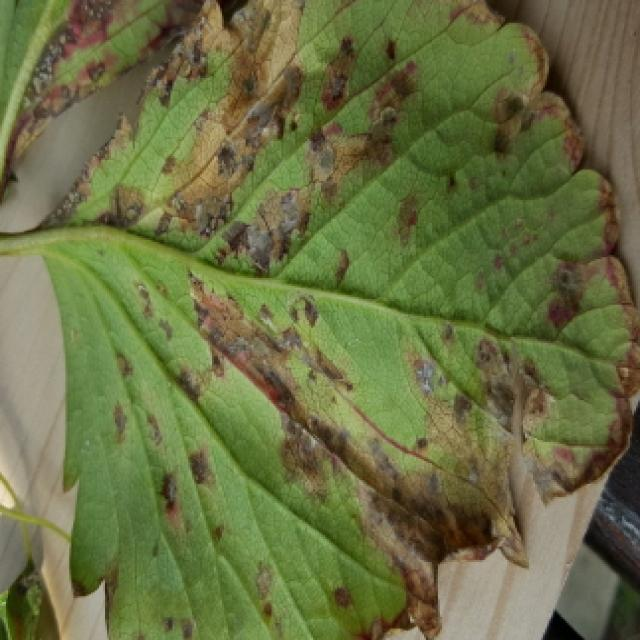Angular Leafspot: (33, 0, 640, 640)
